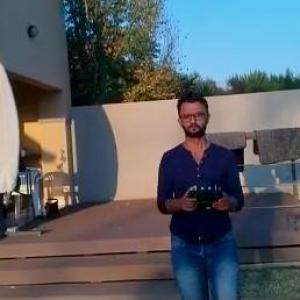follow: (154, 86, 251, 299)
